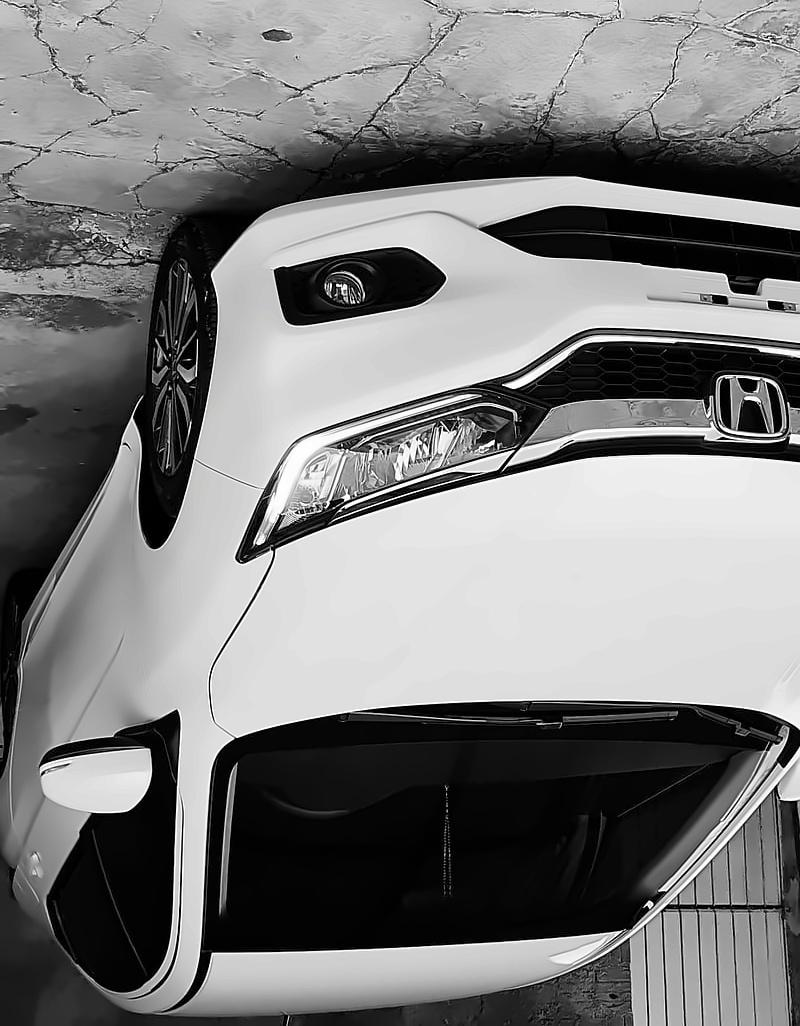Car hood: (204, 440, 800, 745)
Fender - -F-L-: (122, 396, 281, 754)
Front bumper: (186, 168, 800, 474)
Headlight - -L-: (228, 366, 552, 580)
Passenger-s door - -F-L-: (76, 448, 214, 997)
Passenger-s door - -R-L-: (12, 552, 163, 1003)
Side bumper - -L-: (4, 384, 150, 676)
Side mirror - -L-: (24, 734, 161, 836)
